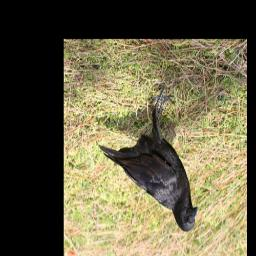Crow: (96, 81, 197, 233)
